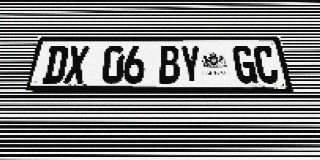0: (101, 46, 125, 83)
6: (123, 46, 145, 83)
B: (159, 46, 180, 83)
C: (252, 46, 280, 83)
D: (42, 46, 69, 84)
G: (232, 46, 258, 83)
X: (63, 46, 89, 84)
Y: (180, 46, 202, 83)
